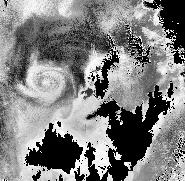CE: (23, 60, 68, 105)
